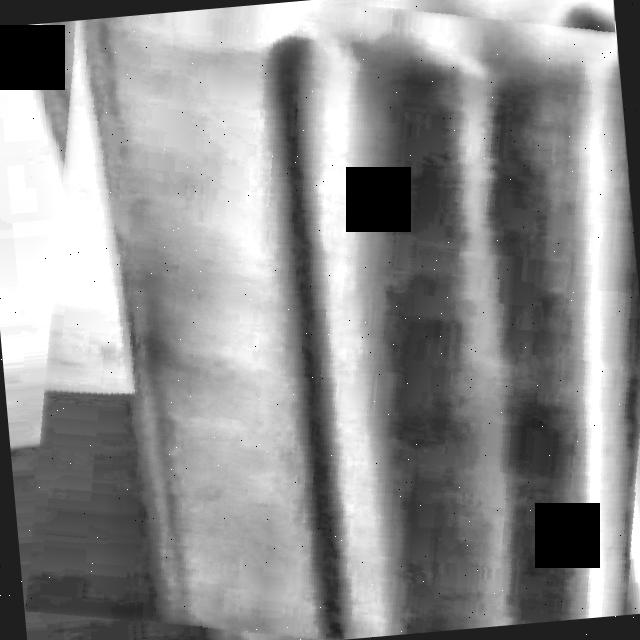bottle: (74, 1, 640, 640)
